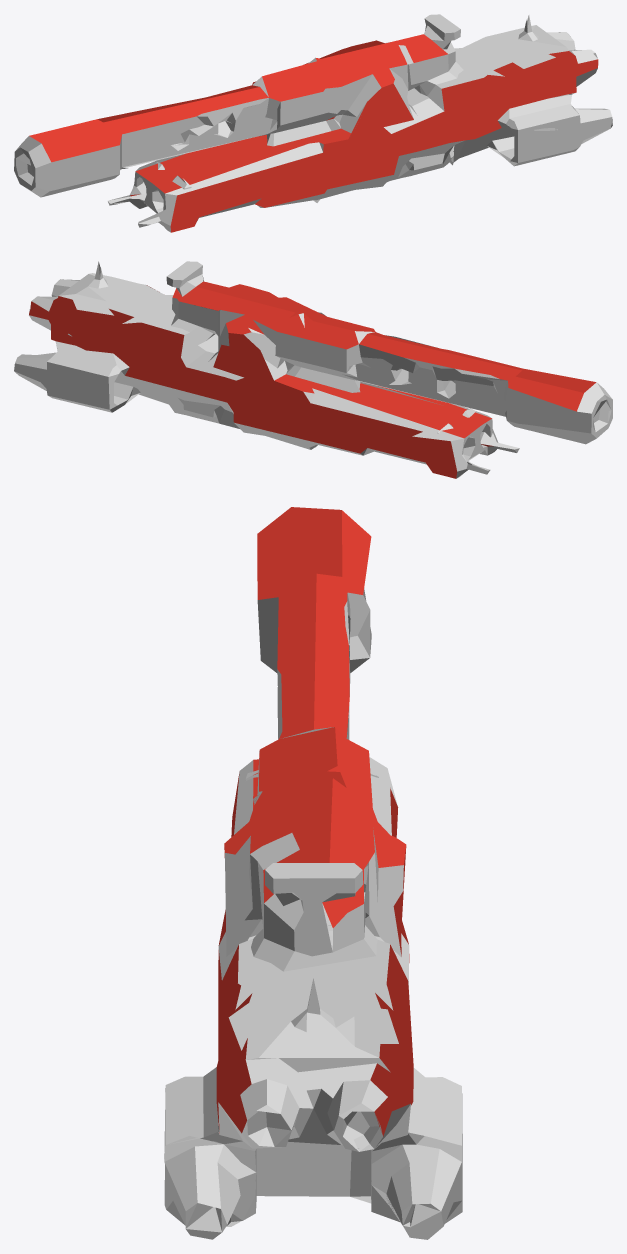
Rendered from bombard_t1.glb.
3 views of the same model, one above another, from view 1: azimuth 30°, elevation 25°; view 2: azimuth 150°, elevation 25°; view 3: azimuth 270°, elevation 25° (orthographic). The views are drawn at different scales.
Parts seen in each view (by area): view 1: Spaceship; view 2: Spaceship; view 3: Spaceship.
Part boxes in pixels (bbox=[...]): Spaceship: bbox=[14, 14, 612, 232]; Spaceship: bbox=[14, 261, 612, 478]; Spaceship: bbox=[164, 507, 462, 1239].
Size of the model in its own units: 41.42 by 9.96 by 9.62.
